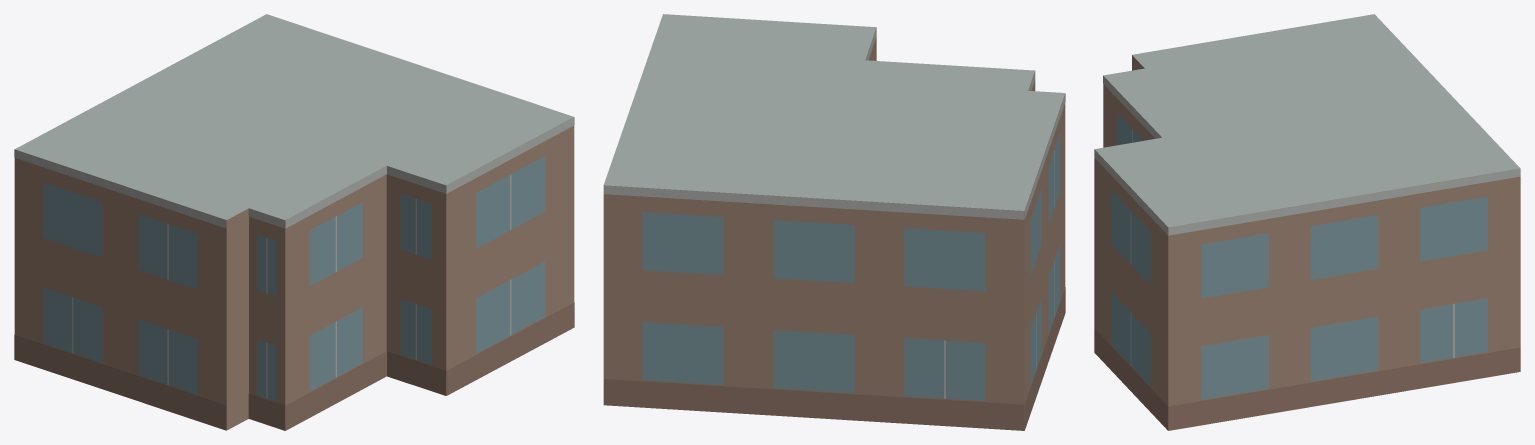
The model's file is survey-upis-32824541.glb.
3 views of the same model, side by side, from view 1: azimuth 30°, elevation 25°; view 2: azimuth 150°, elevation 25°; view 3: azimuth 270°, elevation 25° (orthographic). The views are drawn at different scales.
Visible parts, largest first — view 1: survey-upis-32824541.tmp; view 2: survey-upis-32824541.tmp; view 3: survey-upis-32824541.tmp.
Boxes of the visible parts, bbox=[...] form: survey-upis-32824541.tmp: bbox=[14, 14, 574, 430]; survey-upis-32824541.tmp: bbox=[603, 14, 1065, 430]; survey-upis-32824541.tmp: bbox=[1094, 14, 1520, 430].
Size of the model in its own units: 13.75 by 6.1 by 11.6.
